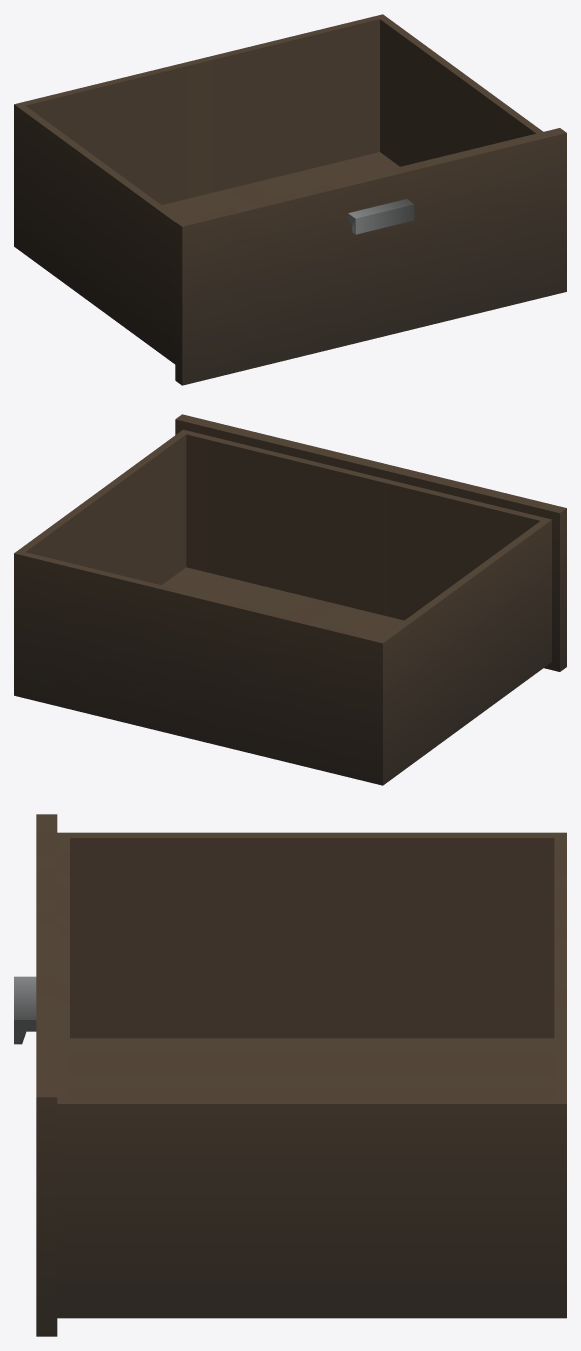
Rendered from Drawer_SideboardCabinet_Brown_large.fbx.
The picture shows the model from 3 angles, top to bottom: view 1: azimuth 30°, elevation 25°; view 2: azimuth 150°, elevation 25°; view 3: azimuth 270°, elevation 25°; orthographic projection. The views are drawn at different scales.
Parts seen in each view (by area): view 1: Drawer_SideboardCabinet_Brown_large; view 2: Drawer_SideboardCabinet_Brown_large; view 3: Drawer_SideboardCabinet_Brown_large.
Part boxes in pixels (bbox=[...]): Drawer_SideboardCabinet_Brown_large: bbox=[14, 14, 566, 385]; Drawer_SideboardCabinet_Brown_large: bbox=[14, 414, 566, 785]; Drawer_SideboardCabinet_Brown_large: bbox=[14, 814, 566, 1336].
Size of the model in its own units: 78.47 by 30.96 by 64.83.
